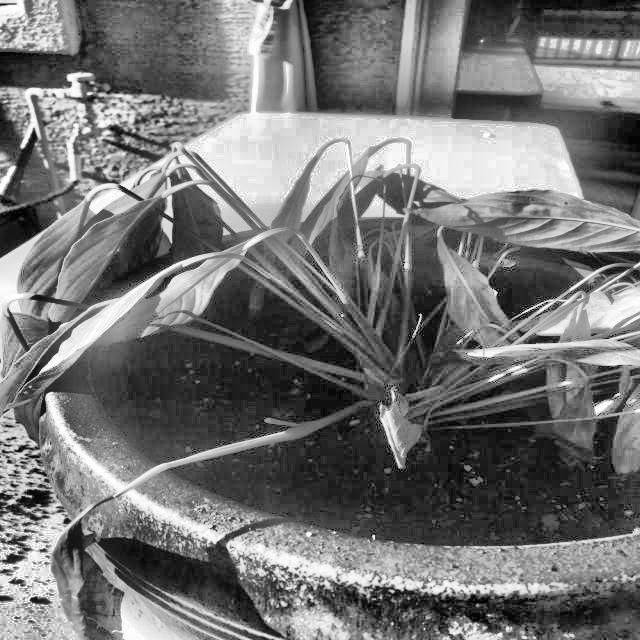plants: (0, 138, 553, 639)
